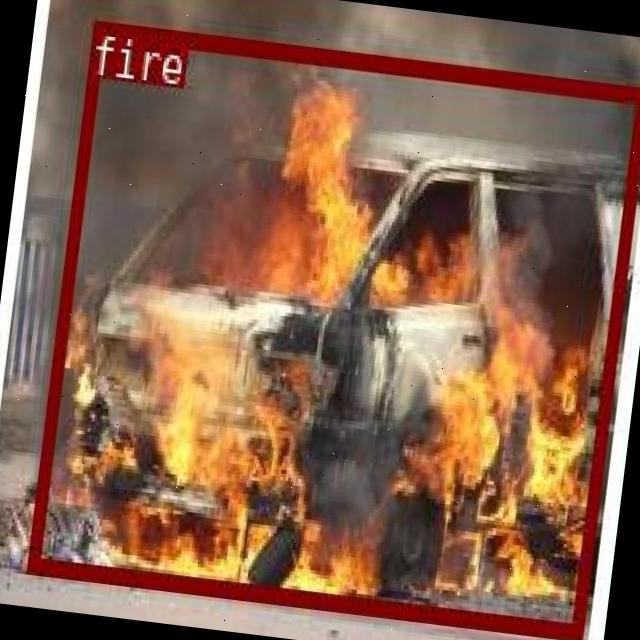fire: (26, 18, 640, 636)
